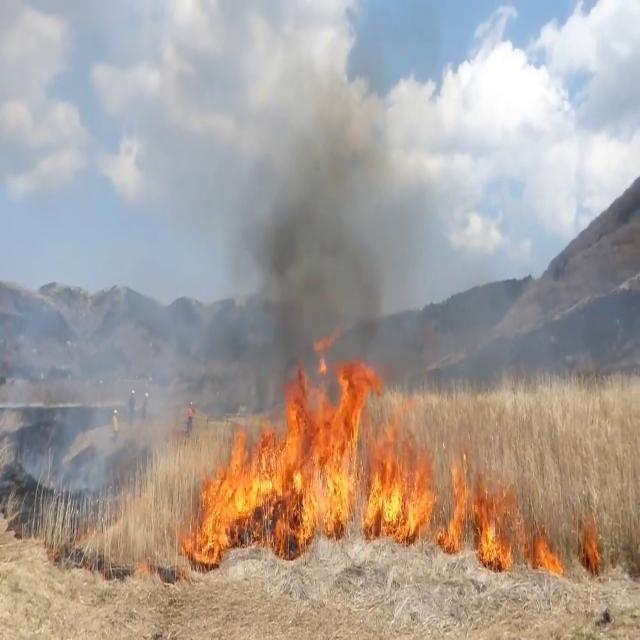Fire: (186, 352, 532, 550), (532, 531, 566, 577)
Smoke: (177, 86, 421, 398)
